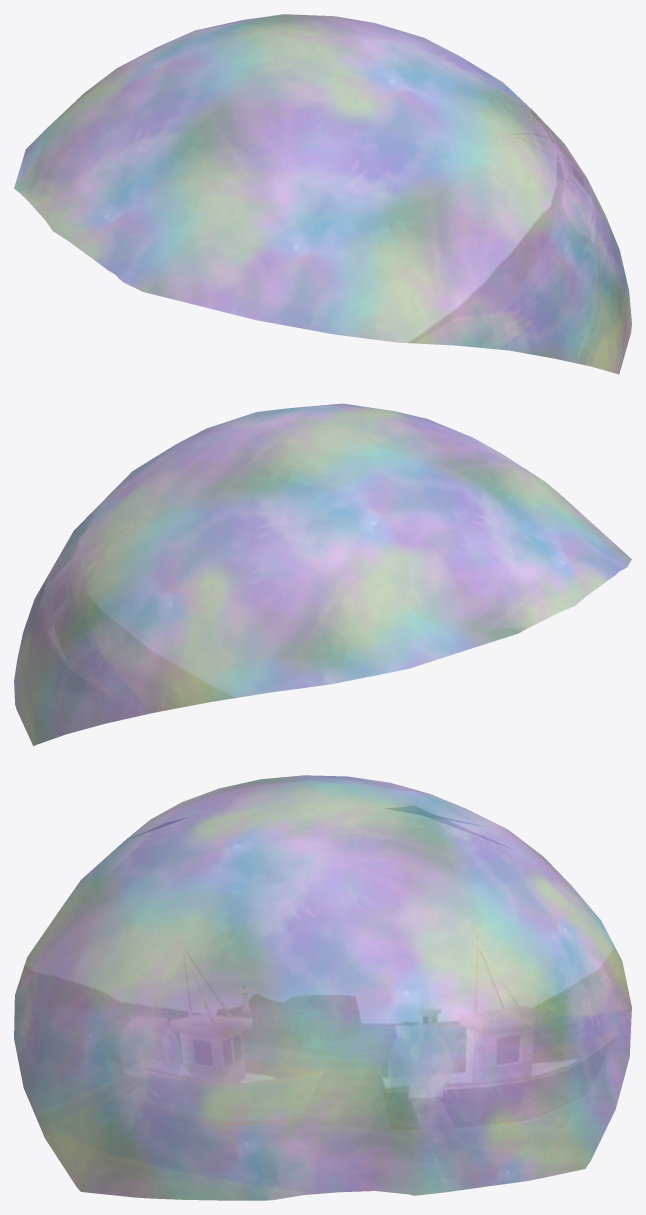
Rendered from bubble_sea1.glb.
3 renders of one model, top to bottom at view 1: azimuth 30°, elevation 25°; view 2: azimuth 150°, elevation 25°; view 3: azimuth 270°, elevation 25°, orthographic. The views are drawn at different scales.
Parts seen in each view (by area): view 1: bubble.png__, envmap3.png__; view 2: bubble.png__, envmap3.png__; view 3: bubble.png__, envmap3.png__.
Boxes of the visible parts, bbox=[...] form: bubble.png__: bbox=[14, 14, 631, 374]; envmap3.png__: bbox=[15, 15, 631, 373]; bubble.png__: bbox=[14, 403, 631, 745]; envmap3.png__: bbox=[14, 404, 631, 745]; bubble.png__: bbox=[14, 775, 631, 1200]; envmap3.png__: bbox=[14, 776, 631, 1199].
Bounding box in the file's own units: 12.58 × 6.49 × 12.56.
Materials: 2 (2 with a texture image).
